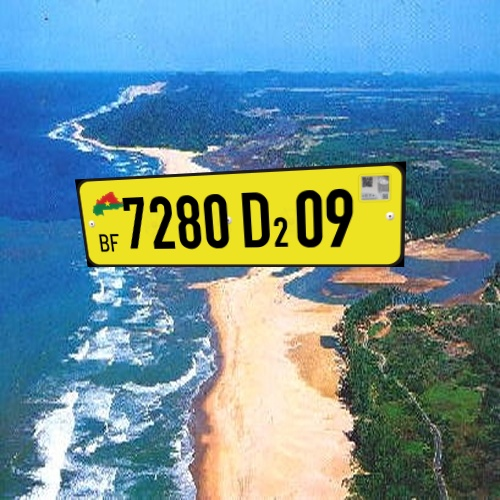plate: (58, 156, 418, 282)
